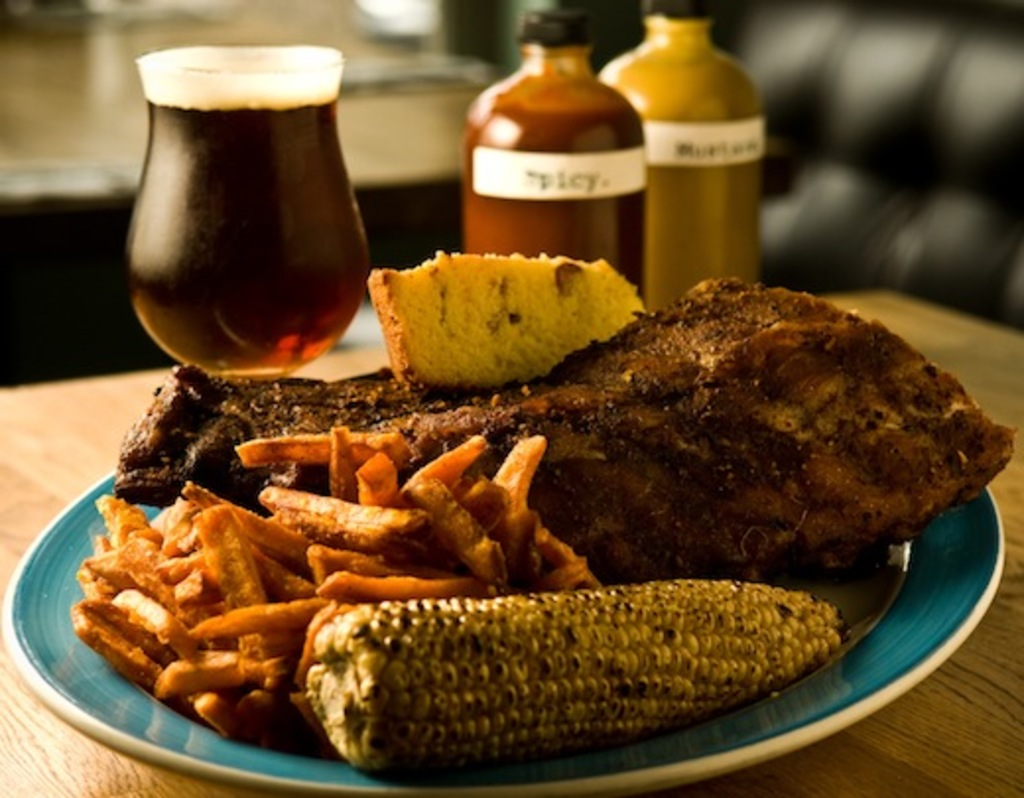French fries: (70, 425, 592, 731)
